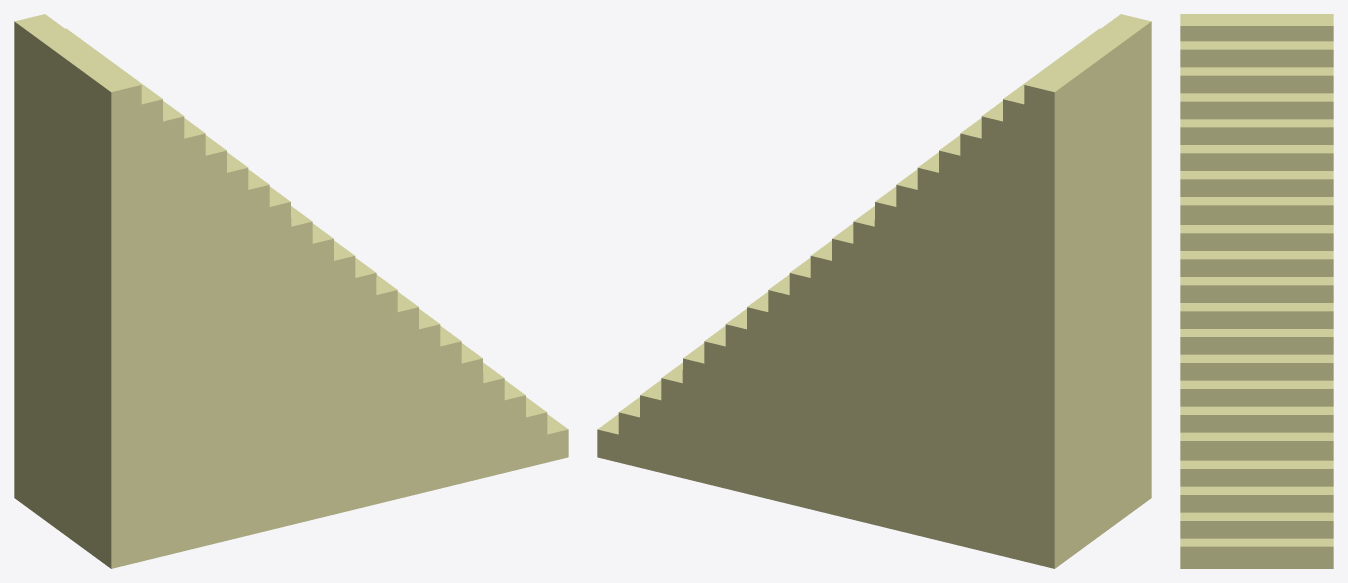
Rendered from stairs.fbx.
3 renders of one model, left to right at view 1: azimuth 30°, elevation 25°; view 2: azimuth 150°, elevation 25°; view 3: azimuth 270°, elevation 25°, orthographic. The views are drawn at different scales.
Visible parts, largest first — view 1: Stairs.002; view 2: Stairs.002; view 3: Stairs.002.
Part boxes in pixels (x1=…): Stairs.002: x1=14, y1=14, x2=568, y2=568; Stairs.002: x1=597, y1=14, x2=1151, y2=568; Stairs.002: x1=1180, y1=14, x2=1333, y2=568.
Size of the model in its own units: 469 by 467 by 172.
